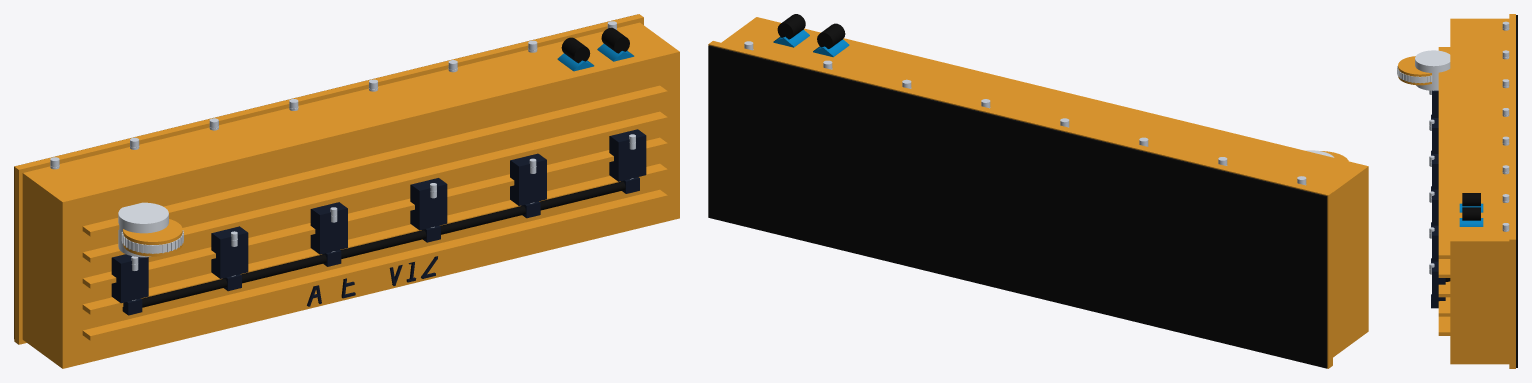
The model's file is valve-cover-left.glb.
The picture shows the model from 3 angles, left to right: view 1: azimuth 30°, elevation 25°; view 2: azimuth 150°, elevation 25°; view 3: azimuth 270°, elevation 25°; orthographic projection. The views are drawn at different scales.
Visible parts, largest first — view 1: Valve_Cover_Main_Billet_Shell, Longitudinal_Cooling_Fin_1, Longitudinal_Cooling_Fin_5, Perimeter_Gasket_Mating_Flange, Longitudinal_Cooling_Fin_4, Longitudinal_Cooling_Fin_3, Ignition_Coil_Harness_Loom, Longitudinal_Cooling_Fin_2, Smart_Ignition_Coil_Pack_2, Smart_Ignition_Coil_Pack_6, Smart_Ignition_Coil_Pack_3, Smart_Ignition_Coil_Pack_4 (+6 smaller); view 2: Molded_Viton_Perimeter_Gasket, Valve_Cover_Main_Billet_Shell, Perimeter_Gasket_Mating_Flange; view 3: Valve_Cover_Main_Billet_Shell, Longitudinal_Cooling_Fin_5, Perimeter_Gasket_Mating_Flange, Billet_Oil_Filler_Neck, Molded_Viton_Perimeter_Gasket, Knurled_Billet_Oil_Filler_Cap, Smart_Ignition_Coil_Pack_6, AN10_Breather_Hose_Stub_1, AN10_Breather_Hose_Stub_2, OilCap_Knurled_Grip_Band, Longitudinal_Cooling_Fin_1, Smart_Ignition_Coil_Pack_5 (+8 smaller).
Boxes of the visible parts, x1,y1,x2,y2 form: Valve_Cover_Main_Billet_Shell: [22, 22, 679, 368]; Longitudinal_Cooling_Fin_1: [82, 189, 667, 340]; Longitudinal_Cooling_Fin_5: [82, 85, 667, 236]; Perimeter_Gasket_Mating_Flange: [14, 14, 643, 344]; Longitudinal_Cooling_Fin_4: [82, 111, 667, 262]; Longitudinal_Cooling_Fin_3: [82, 137, 667, 288]; Ignition_Coil_Harness_Loom: [141, 181, 625, 307]; Longitudinal_Cooling_Fin_2: [82, 163, 667, 314]; Smart_Ignition_Coil_Pack_2: [211, 226, 248, 278]; Smart_Ignition_Coil_Pack_6: [609, 129, 646, 181]; Smart_Ignition_Coil_Pack_3: [310, 202, 347, 254]; Smart_Ignition_Coil_Pack_4: [410, 178, 447, 230]; Molded_Viton_Perimeter_Gasket: [708, 45, 1327, 368]; Valve_Cover_Main_Billet_Shell: [721, 17, 1368, 357]; Perimeter_Gasket_Mating_Flange: [708, 41, 1332, 368]; Valve_Cover_Main_Billet_Shell: [1450, 18, 1509, 364]; Longitudinal_Cooling_Fin_5: [1438, 47, 1450, 258]; Perimeter_Gasket_Mating_Flange: [1509, 14, 1515, 368]; Billet_Oil_Filler_Neck: [1415, 50, 1450, 90]; Molded_Viton_Perimeter_Gasket: [1516, 15, 1517, 367]; Knurled_Billet_Oil_Filler_Cap: [1398, 56, 1431, 85]; Smart_Ignition_Coil_Pack_6: [1432, 261, 1445, 300]; AN10_Breather_Hose_Stub_1: [1462, 193, 1480, 206]; AN10_Breather_Hose_Stub_2: [1462, 207, 1480, 220]; OilCap_Knurled_Grip_Band: [1397, 66, 1432, 83]; Longitudinal_Cooling_Fin_1: [1438, 316, 1450, 335]; Smart_Ignition_Coil_Pack_5: [1432, 225, 1438, 261].
Size of the model in its own units: 0.628 by 0.188 by 0.142.
